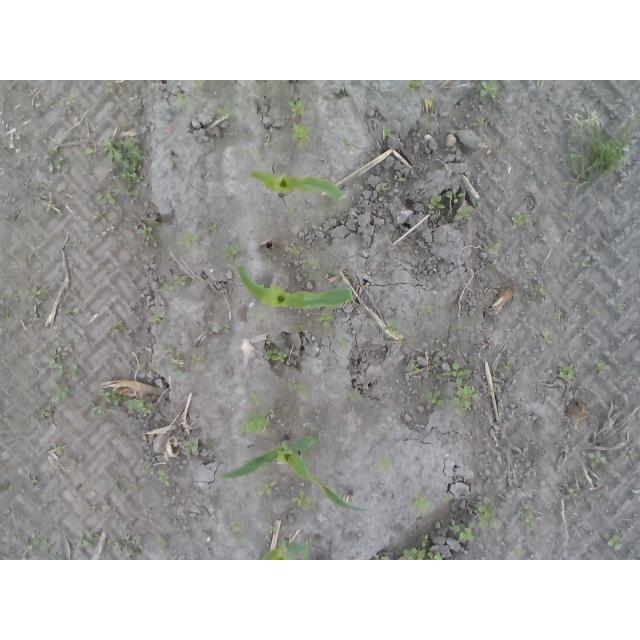Maize: (220, 431, 366, 513), (238, 263, 354, 309), (249, 168, 347, 202), (258, 536, 313, 560)
Weeds: (442, 360, 481, 416), (103, 137, 148, 184), (96, 183, 145, 209), (400, 534, 445, 560), (47, 345, 81, 378), (474, 495, 503, 528), (239, 411, 273, 434), (447, 519, 477, 545), (288, 121, 313, 152), (114, 533, 143, 559), (133, 214, 159, 243), (158, 275, 187, 300), (287, 375, 312, 401), (24, 528, 48, 553), (523, 282, 549, 305), (290, 489, 318, 509), (144, 466, 172, 486), (581, 253, 608, 273), (52, 382, 77, 403), (128, 396, 153, 416), (600, 531, 624, 551), (420, 389, 445, 408), (49, 145, 64, 176), (264, 348, 287, 368), (229, 520, 248, 544), (478, 80, 504, 97), (101, 389, 123, 409), (78, 528, 100, 548), (175, 229, 198, 248), (256, 479, 278, 498), (313, 311, 335, 330), (243, 391, 267, 408), (523, 501, 538, 527), (287, 97, 305, 118), (374, 455, 393, 474), (409, 495, 428, 514), (215, 104, 235, 121), (383, 320, 402, 337), (105, 320, 125, 336), (223, 240, 241, 257), (183, 437, 200, 455), (509, 209, 527, 226), (427, 194, 446, 210), (444, 190, 464, 205), (88, 400, 105, 417), (560, 364, 577, 381), (345, 384, 363, 400), (589, 451, 608, 466), (41, 192, 55, 212), (458, 205, 474, 222), (407, 80, 434, 89), (249, 304, 264, 320), (609, 298, 624, 314), (192, 351, 205, 369), (488, 239, 501, 257), (511, 543, 526, 558), (473, 115, 488, 129), (35, 403, 50, 417), (593, 359, 608, 373), (95, 210, 109, 225), (249, 144, 262, 160), (176, 92, 192, 105), (544, 331, 557, 346), (62, 94, 78, 106), (88, 504, 111, 512), (308, 258, 322, 271), (218, 322, 232, 335), (341, 137, 353, 152), (31, 287, 41, 304), (287, 242, 300, 255), (410, 361, 422, 375), (103, 81, 114, 95), (340, 335, 349, 352), (566, 487, 578, 499), (264, 523, 277, 534), (382, 127, 395, 138), (373, 553, 392, 560), (156, 537, 168, 548), (150, 313, 162, 324), (375, 184, 389, 193), (2, 309, 12, 321), (422, 303, 432, 314), (174, 369, 184, 380), (83, 335, 93, 345), (501, 359, 511, 369), (398, 335, 407, 346), (208, 223, 216, 234), (194, 81, 205, 88), (553, 312, 561, 320), (394, 174, 402, 182), (441, 496, 448, 505), (152, 367, 160, 374), (31, 479, 38, 486), (329, 272, 338, 277)
